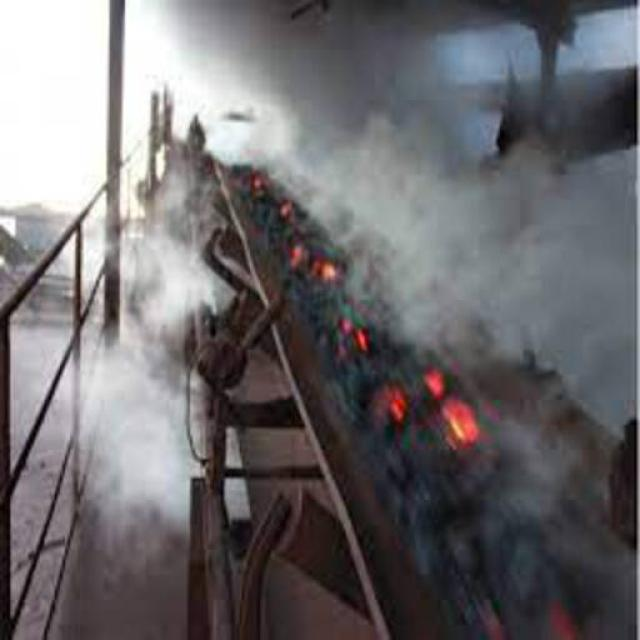conveyor: (203, 141, 640, 640)
